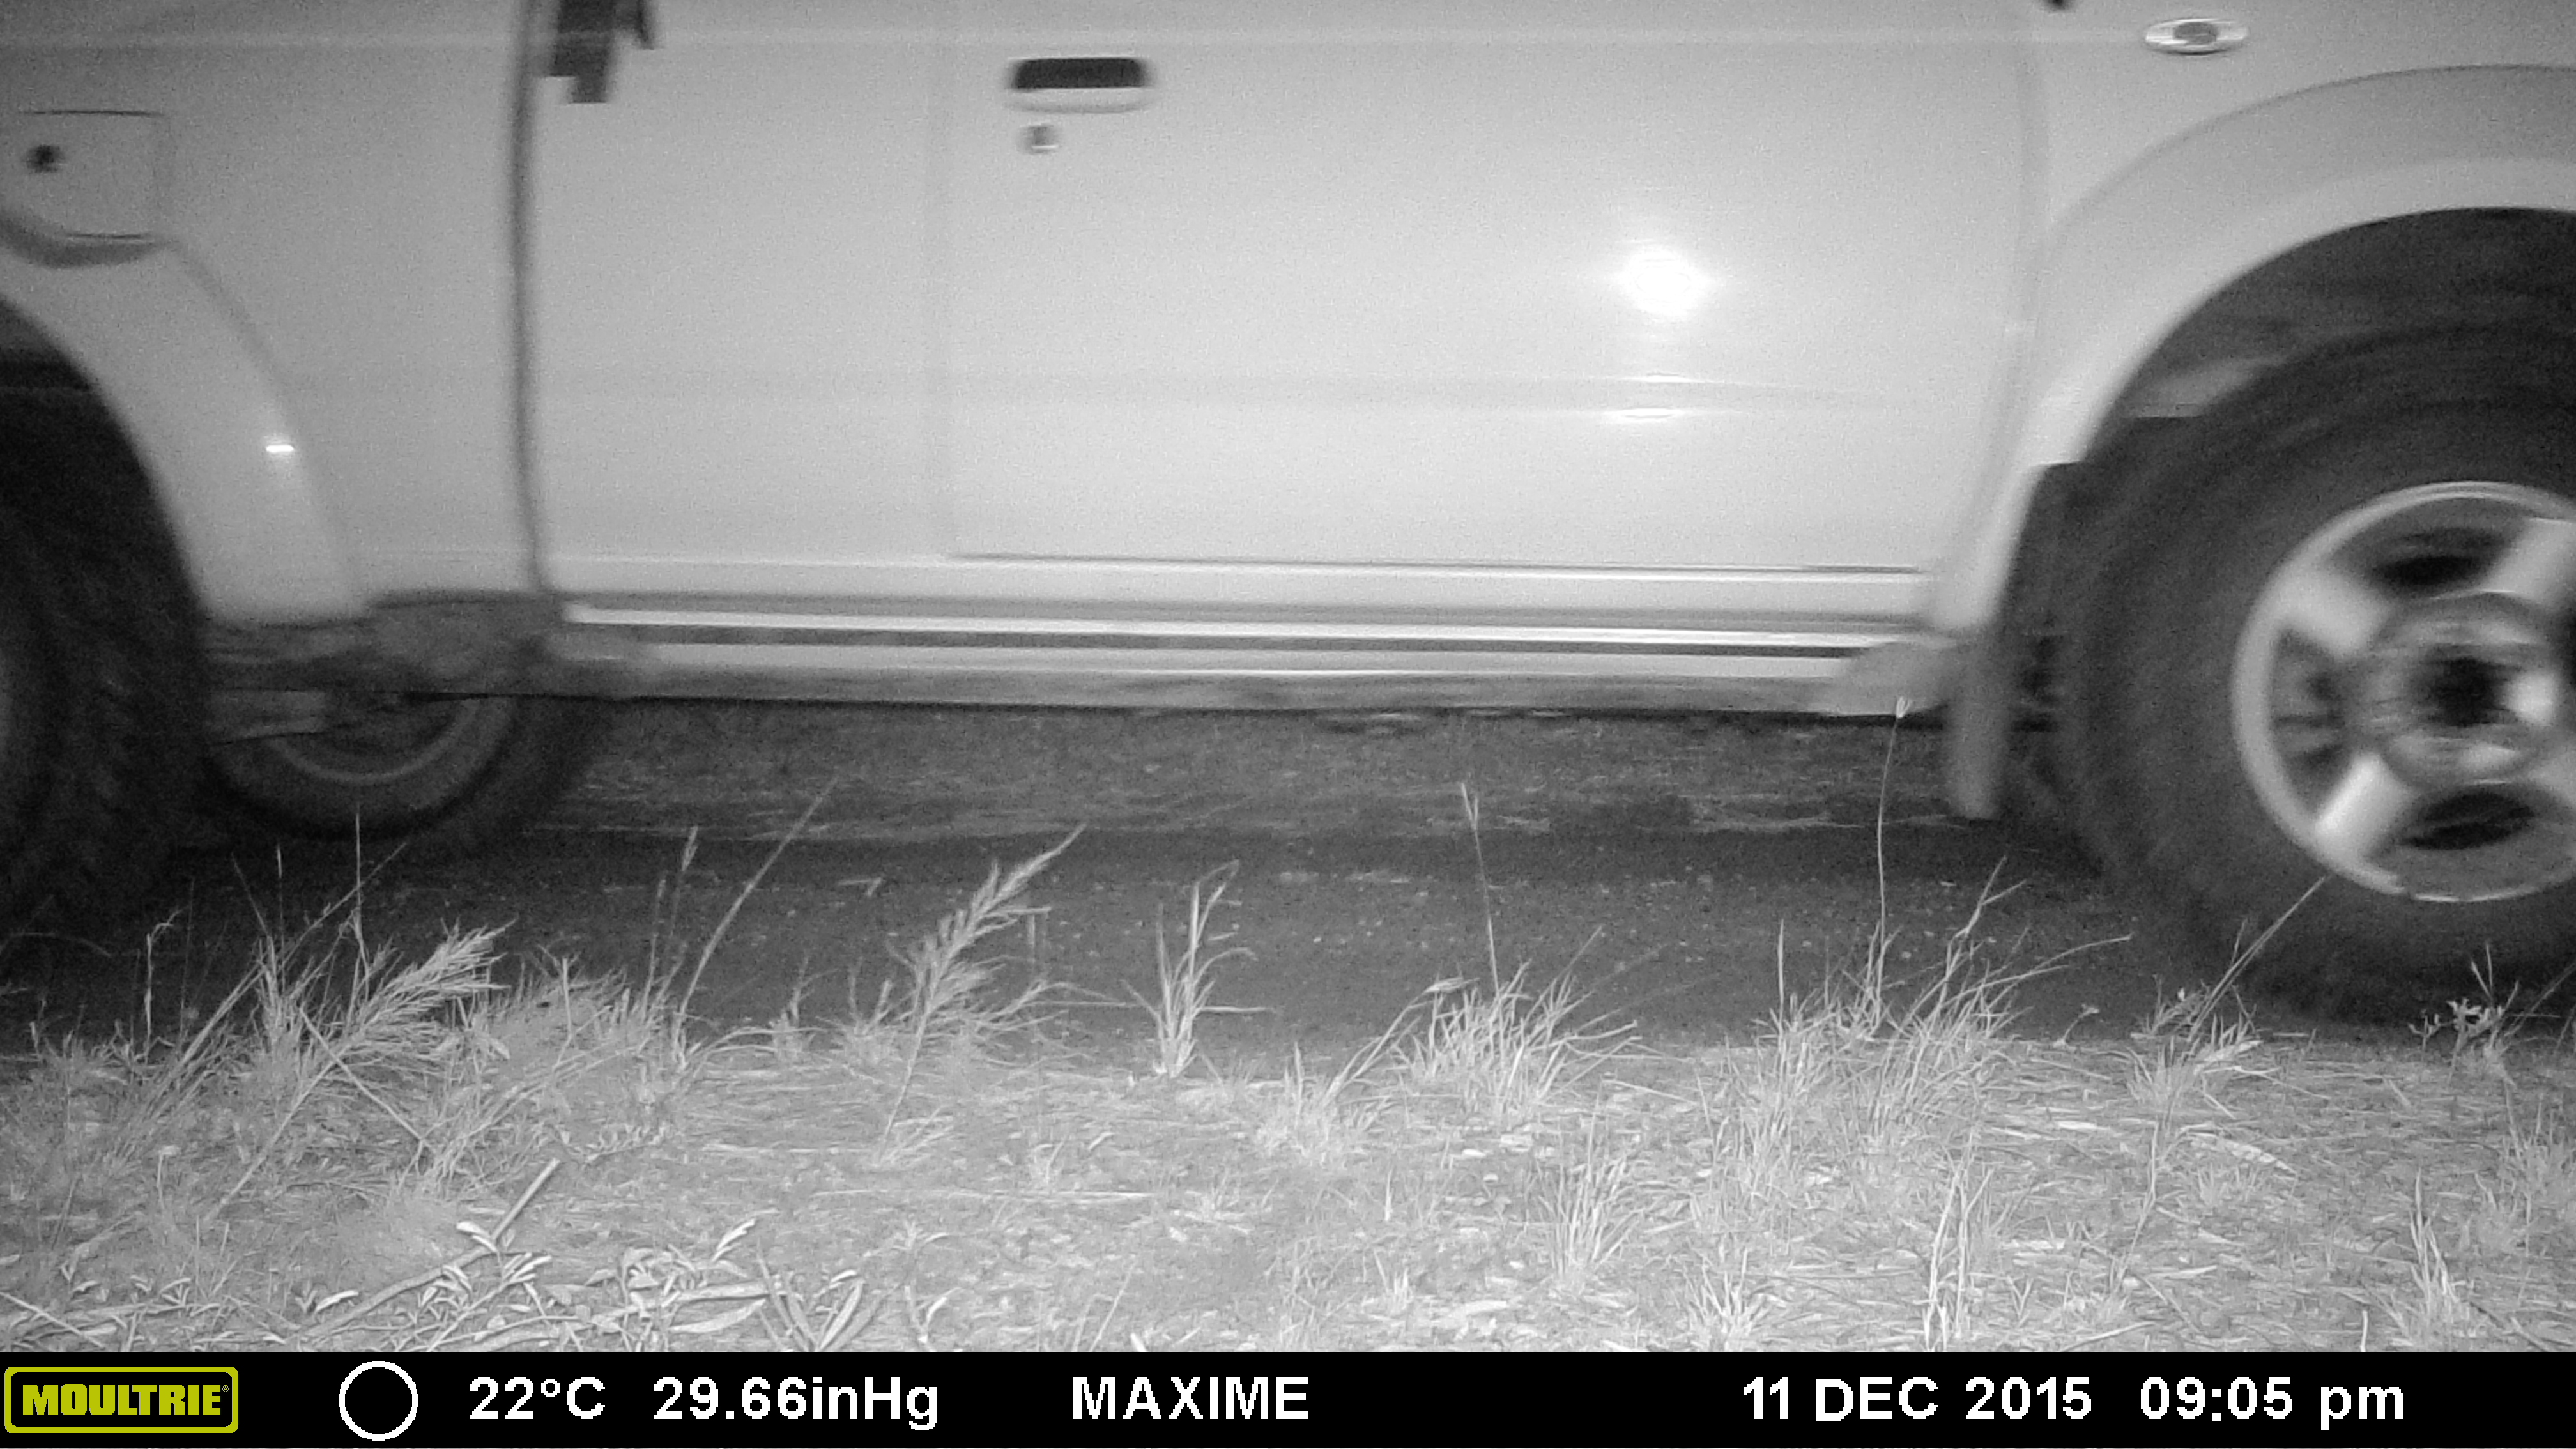Car: (2, 2, 2572, 1031)
